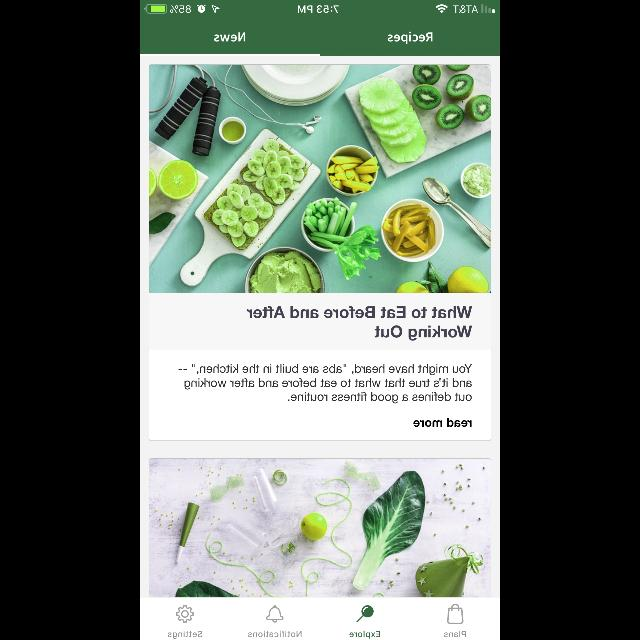icon: (447, 604, 463, 624), (176, 606, 194, 622), (266, 606, 284, 622), (356, 606, 374, 622)
image: (150, 65, 490, 292), (150, 459, 490, 597)
text: (178, 364, 472, 404), (246, 306, 472, 342), (413, 418, 471, 428), (388, 32, 432, 44), (248, 630, 302, 638), (214, 32, 246, 42), (168, 631, 202, 639), (350, 631, 380, 639), (444, 631, 466, 637)
uppertaskbar: (140, 0, 500, 14)
